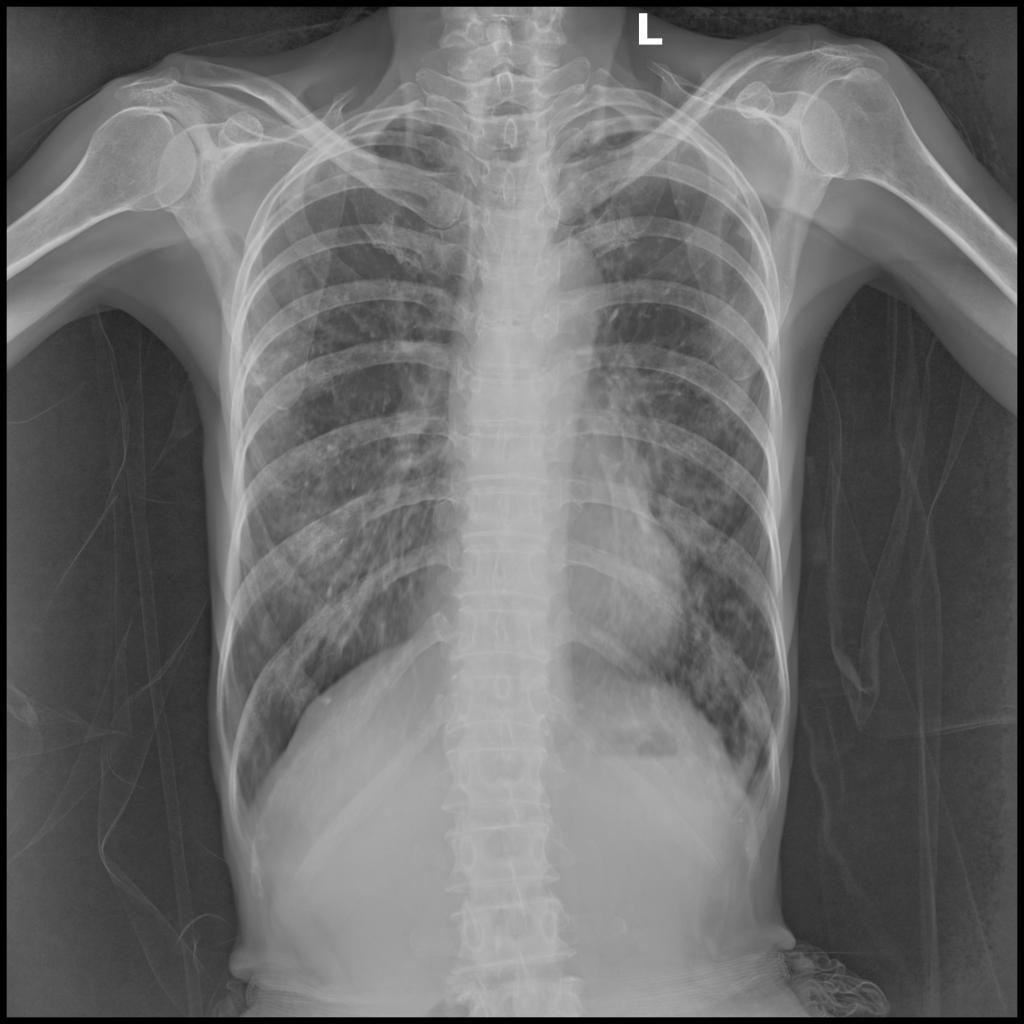Nodule: (739, 225, 755, 240)
